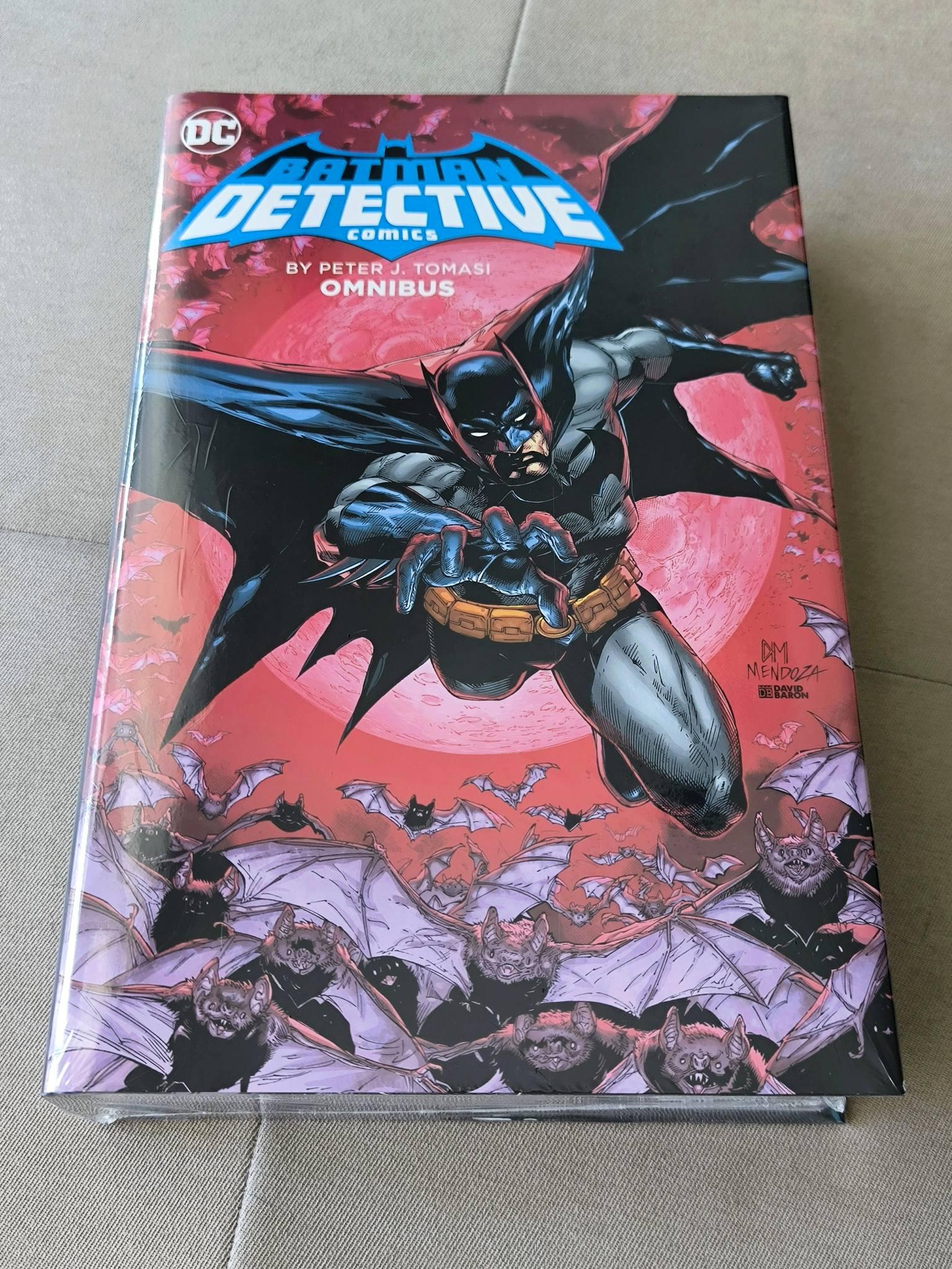comic: (46, 95, 901, 1107)
